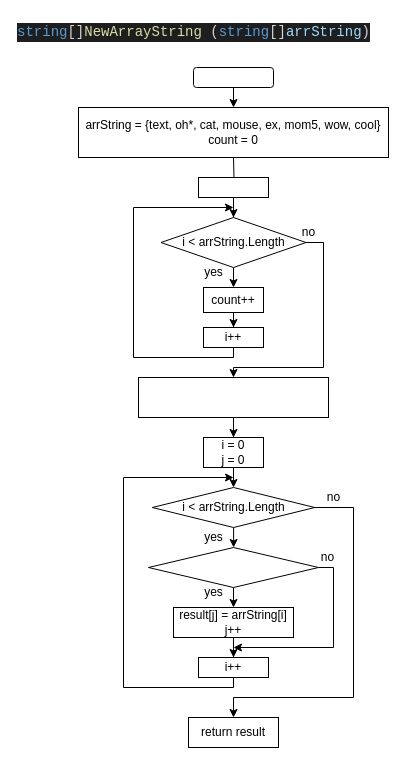
Some shapes in this 406 by 765 pixel diagram are drawn without their labels. The shapes that lost their labels are listed below. From the top down, each one's centre as x and y in pixels, then its label:
the point at 233,77: start
the point at 233,187: i = 0
the point at 233,397: string [] result = new string[count]
the point at 233,567: arrString[i].Length < 4
